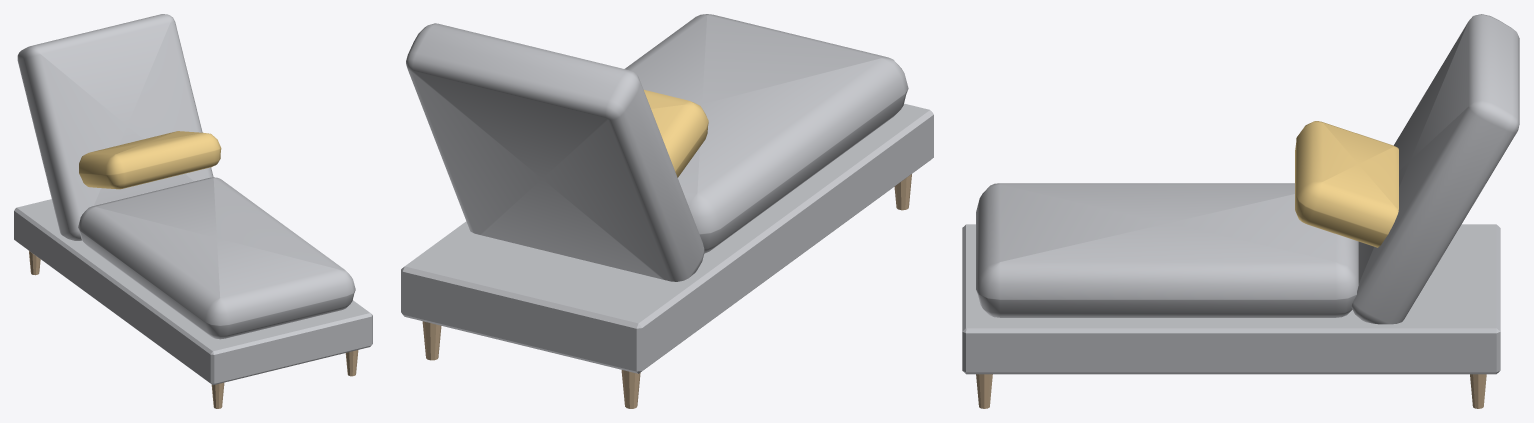
The model's file is chaise-lounger-d1487f42.glb.
3 views of the same model, side by side, from view 1: azimuth 30°, elevation 25°; view 2: azimuth 150°, elevation 25°; view 3: azimuth 270°, elevation 25° (orthographic). The views are drawn at different scales.
Visible parts, largest first — view 1: chaise-lounger; view 2: chaise-lounger; view 3: chaise-lounger.
Boxes of the visible parts, x1,y1,x2,y2 form: chaise-lounger: (14,14,372,408); chaise-lounger: (401,14,933,408); chaise-lounger: (962,14,1519,408).
Bounding box in the file's own units: 0.8 × 1.06 × 1.76.
